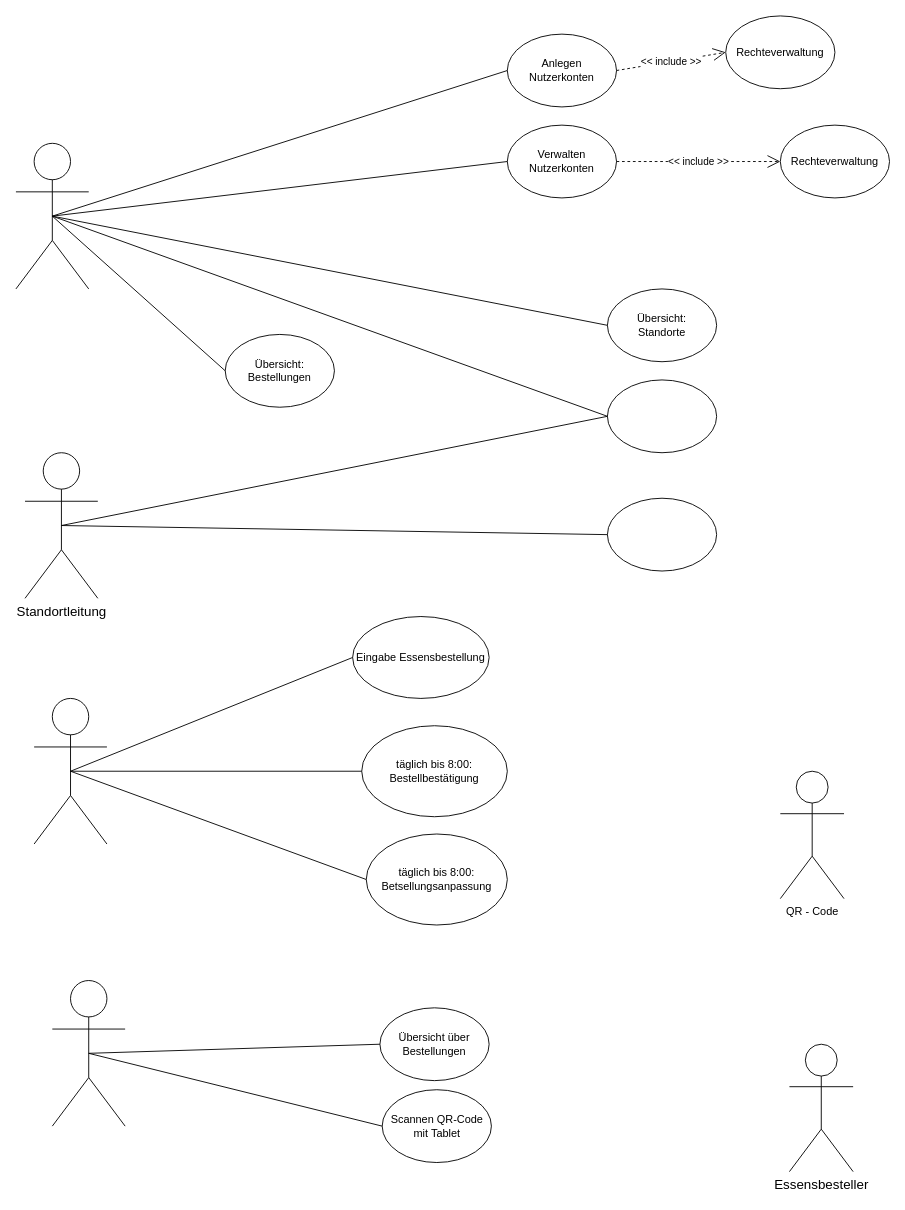
Image size: 905x1210. Some labels were removed from this diagram. The centre of each missing label's shape, as x and y in pixels:
"Gruppenleitung" goes at (x=70, y=771).
"Küchenpersonal" goes at (x=88, y=1053).
"Managen Vertretung Gruppenleiter" goes at (x=662, y=534).
"Verwaltung (Admins)" goes at (x=52, y=215).
"Übersicht: Gruppen" goes at (x=662, y=416).
